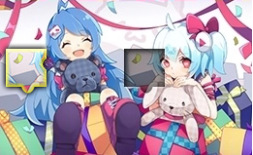gap: (124, 49, 165, 93)
